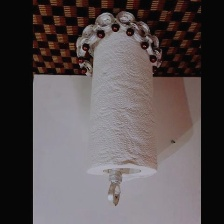tissue: (80, 24, 163, 184)
